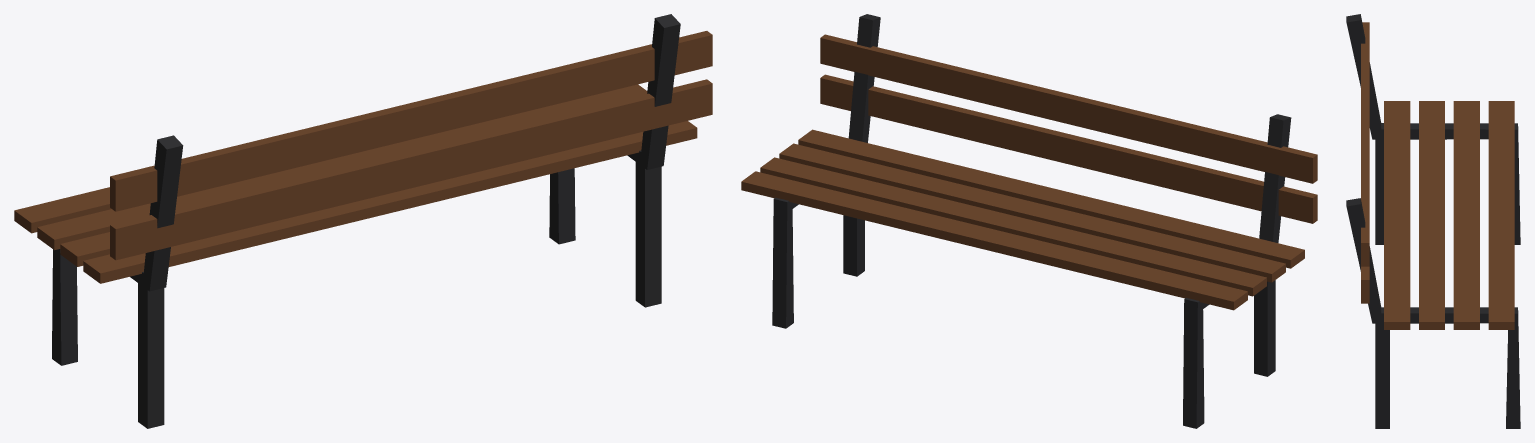
The model's file is street.furniture.bench.glb.
3 views of the same model, side by side, from view 1: azimuth 30°, elevation 25°; view 2: azimuth 150°, elevation 25°; view 3: azimuth 270°, elevation 25° (orthographic). The views are drawn at different scales.
Visible parts, largest first — view 1: main__hardwood, main__cast_iron; view 2: main__hardwood, main__cast_iron; view 3: main__hardwood, main__cast_iron.
Boxes of the visible parts, x1,y1,x2,y2 form: main__hardwood: (14, 31, 712, 283); main__cast_iron: (52, 14, 680, 428); main__hardwood: (741, 34, 1317, 310); main__cast_iron: (772, 14, 1291, 428); main__hardwood: (1361, 22, 1514, 329); main__cast_iron: (1346, 14, 1520, 428).
Bounding box in the file's own units: 1.8 × 0.8546 × 0.5996.
